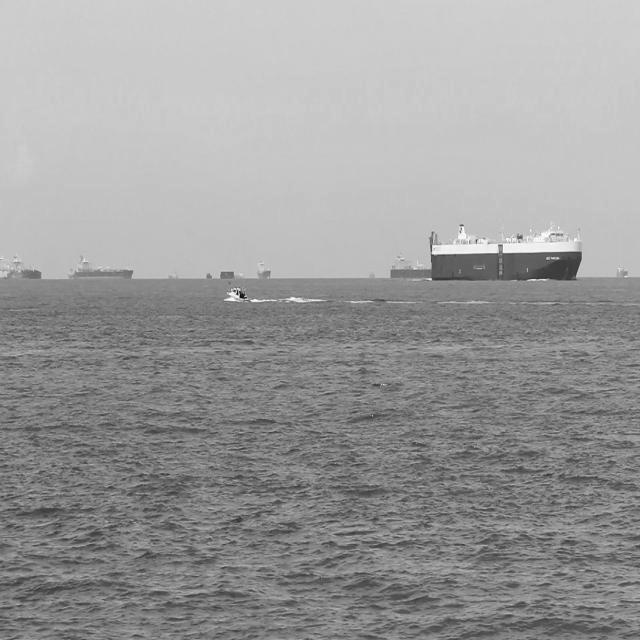ship: (427, 221, 584, 287), (61, 249, 136, 281), (0, 254, 47, 283), (384, 255, 431, 281), (221, 280, 253, 306), (252, 258, 272, 284), (612, 258, 630, 284)
